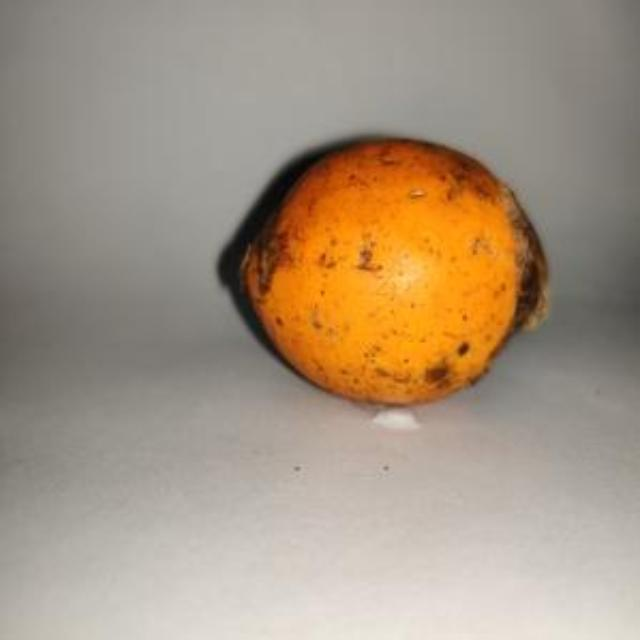good: (235, 137, 550, 409)
